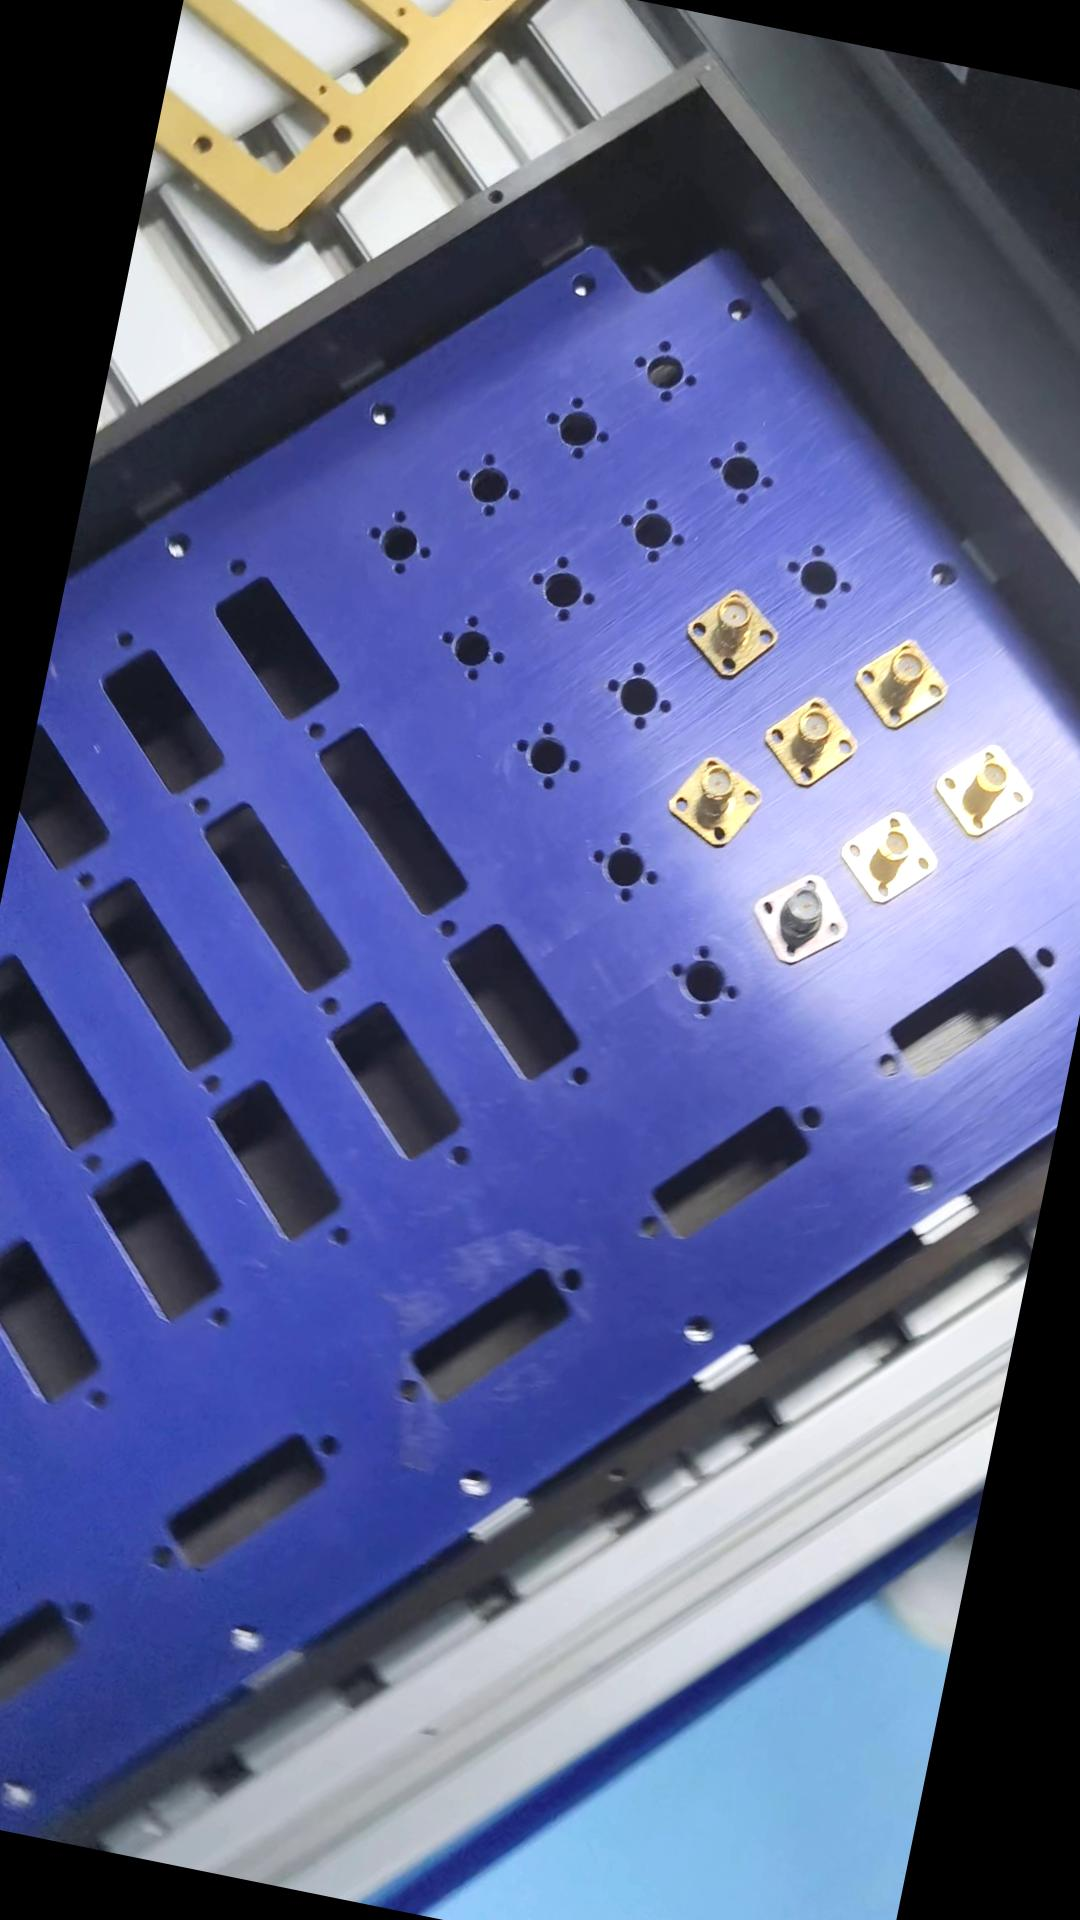SMA: (924, 731, 1042, 845), (752, 684, 860, 796), (742, 858, 855, 967), (829, 800, 942, 907), (847, 630, 955, 736), (658, 746, 766, 851), (678, 579, 783, 680)
